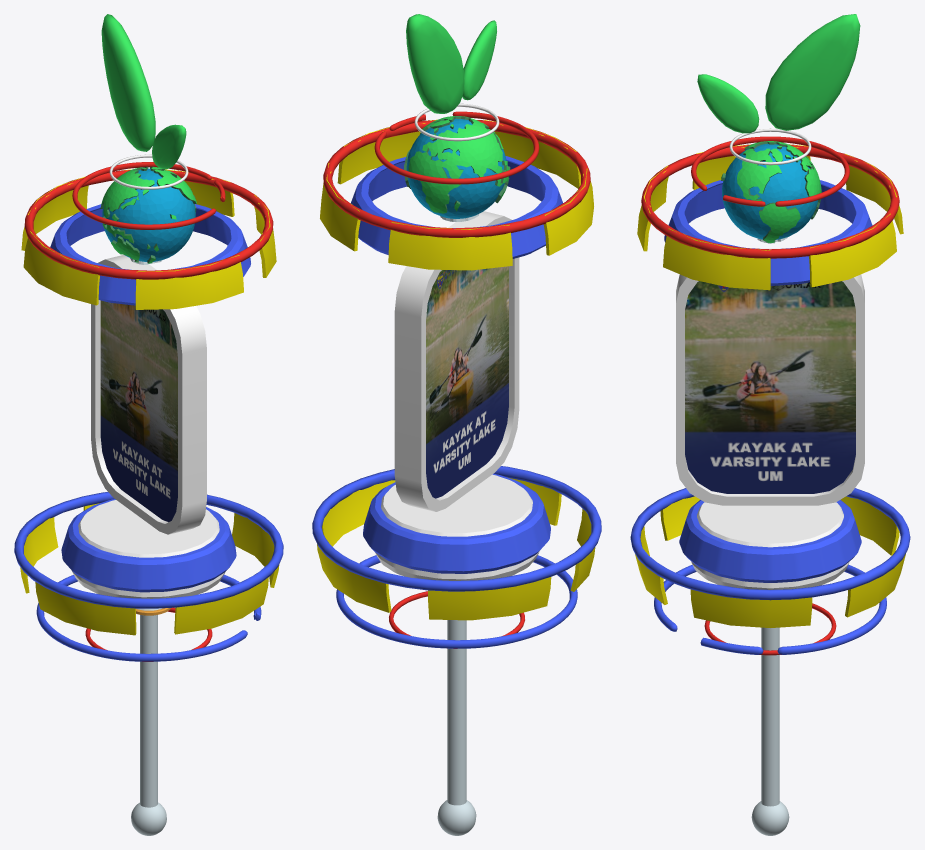
Rendered from kayak.glb.
The picture shows the model from 3 angles, left to right: view 1: azimuth 30°, elevation 25°; view 2: azimuth 150°, elevation 25°; view 3: azimuth 270°, elevation 25°; orthographic projection. The views are drawn at different scales.
Parts seen in each view (by area): view 1: pCube3, polySurface2, pasted__pSphere8, pasted__pSphere6, pasted__pCylinder9, Sphere, pasted__pCylinder10, pCube5, pasted__polySurface27, pasted__polySurface28, pasted__pCone1, pasted__polySurface30 (+3 smaller); view 2: pCube3, polySurface2, pasted__pSphere8, pasted__pSphere6, pasted__pCylinder9, Sphere, pasted__pCylinder10, pasted__polySurface27, pCube5, pasted__polySurface28, pasted__polySurface30, pasted__pCone1 (+4 smaller); view 3: pCube3, pasted__pSphere8, pCube5, pasted__pSphere6, Sphere, pasted__pCylinder9, pasted__pCylinder10, polySurface2, pasted__polySurface27, pasted__polySurface28, pasted__polySurface30, pasted__pCone1 (+4 smaller).
Boxes of the visible parts, box(x1,y1,x2,y2) form: pCube3: box(100, 300, 177, 522); polySurface2: box(91, 255, 206, 534); pasted__pSphere8: box(21, 169, 276, 309); pasted__pSphere6: box(20, 503, 279, 635); pasted__pCylinder9: box(61, 499, 236, 592); Sphere: box(100, 166, 196, 264); pasted__pCylinder10: box(71, 500, 225, 598); pCube5: box(101, 14, 186, 169); pasted__polySurface27: box(14, 492, 283, 608); pasted__polySurface28: box(24, 170, 273, 279); pasted__pCone1: box(131, 608, 166, 835); pasted__polySurface30: box(50, 204, 250, 305); pCube3: box(426, 266, 508, 498); polySurface2: box(394, 211, 519, 511); pasted__pSphere8: box(320, 119, 593, 270); pasted__pSphere6: box(317, 477, 595, 620); pasted__pCylinder9: box(363, 473, 550, 573); Sphere: box(404, 116, 510, 221); pasted__pCylinder10: box(375, 474, 539, 580); pasted__polySurface27: box(312, 466, 601, 591); pCube5: box(406, 14, 496, 113); pasted__polySurface28: box(323, 120, 590, 237); pasted__polySurface30: box(350, 156, 562, 258); pasted__pCone1: box(437, 620, 476, 835); pCube3: box(685, 281, 855, 493); pasted__pSphere8: box(637, 144, 903, 290); pCube5: box(697, 14, 860, 133); pasted__pSphere6: box(635, 496, 905, 627); Sphere: box(721, 141, 821, 243); pasted__pCylinder9: box(679, 500, 861, 582); pasted__pCylinder10: box(691, 502, 849, 589); polySurface2: box(676, 248, 864, 505); pasted__polySurface27: box(630, 488, 910, 600); pasted__polySurface28: box(641, 144, 899, 258); pasted__polySurface30: box(664, 180, 872, 285); pasted__pCone1: box(751, 627, 789, 835).
Size of the model in its own units: 0.0149 by 0.0481 by 0.0149.
Materials: 10 (1 with a texture image).
